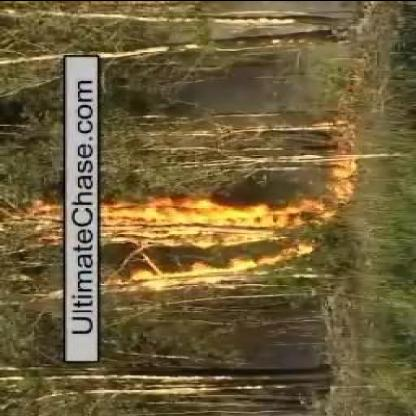-: (266, 170, 324, 192)
foggia-v2-map80-epoch100 - v1 4323: (9, 191, 318, 281)
